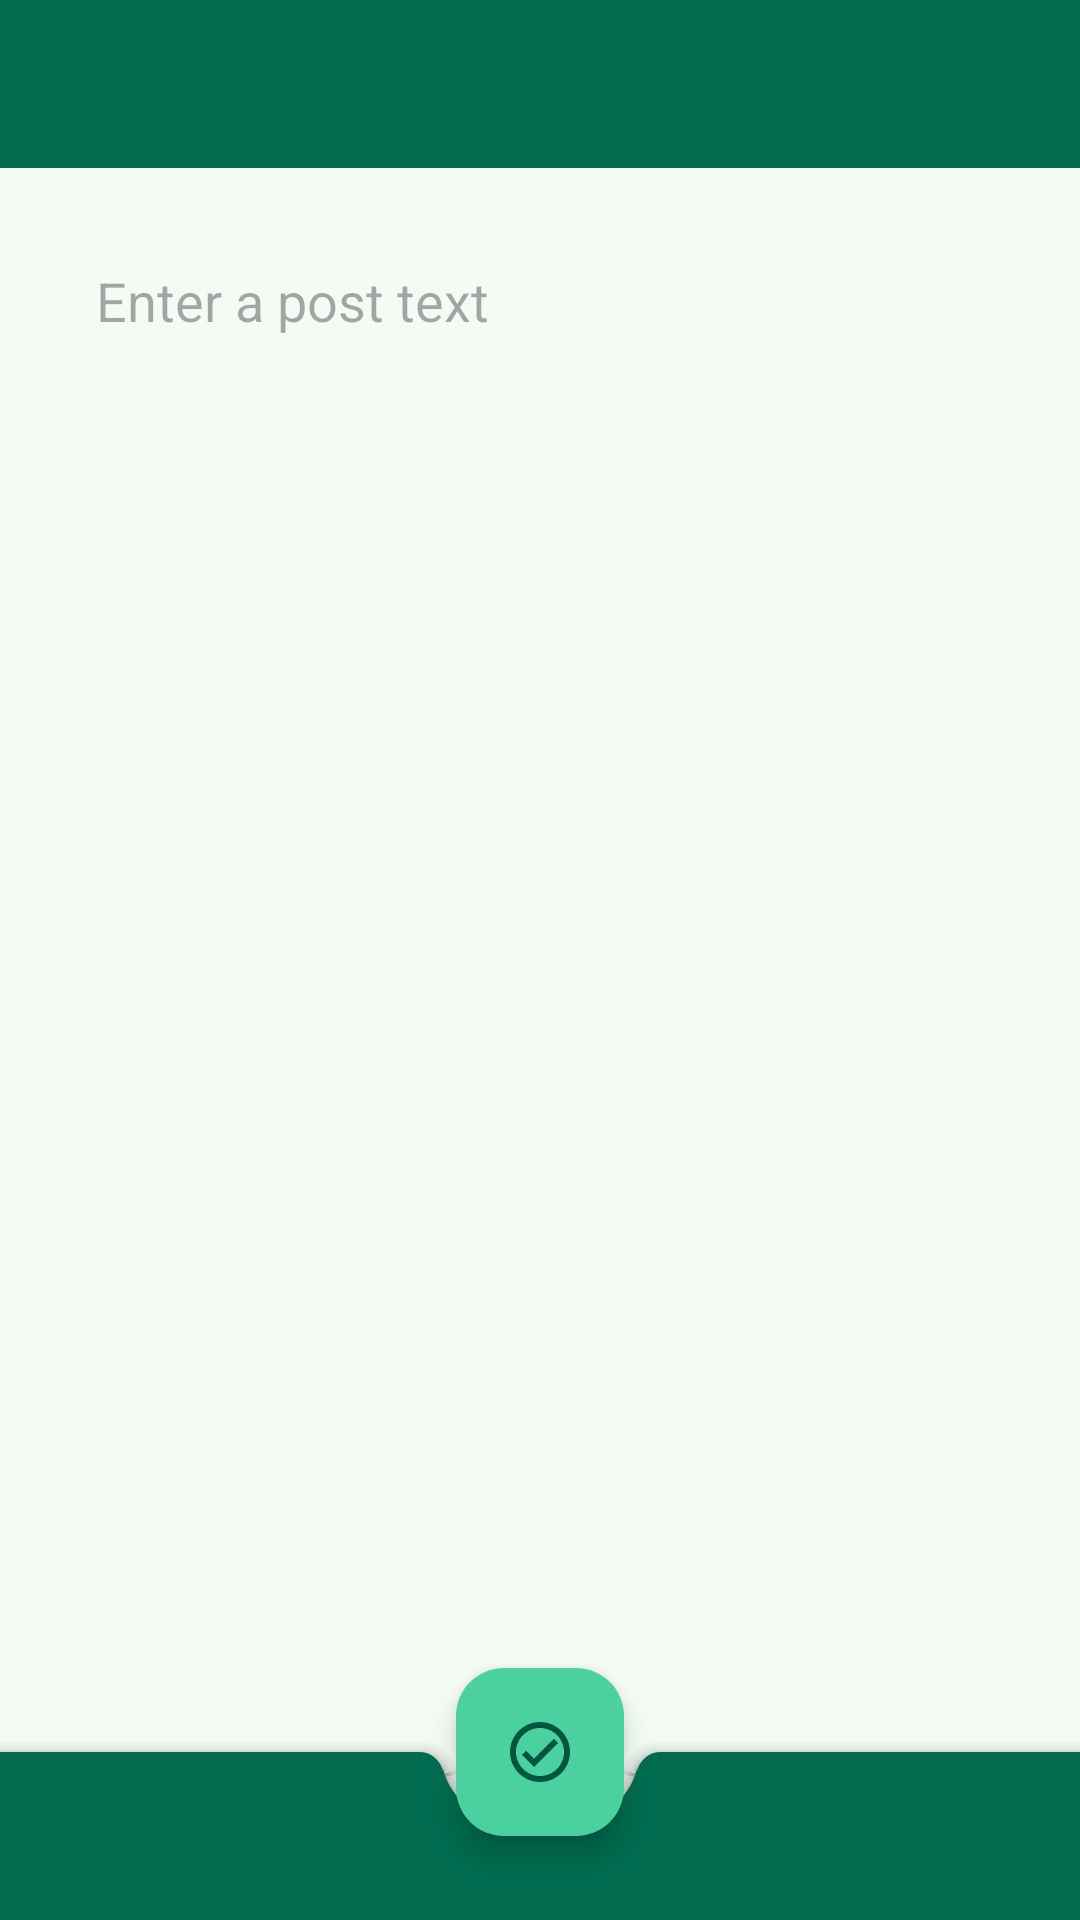

Screen size 1080 x 1920. Icon name, then its center in pixels as [x,y]:
save: [540,1752]
